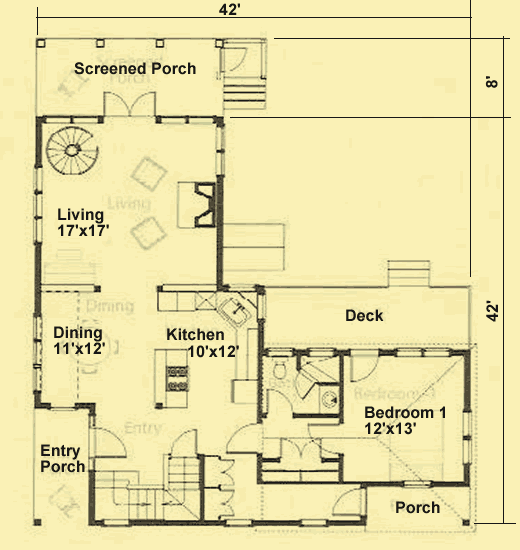bathroom has a small and large sink with shower space: (261, 346, 341, 420)
bedroom has a double bed: (340, 352, 470, 484)
kitchen has a breakfast counter, cooking range and sink: (150, 285, 262, 417)
livingroom has small couches and other sitting facilities: (37, 118, 220, 285)
